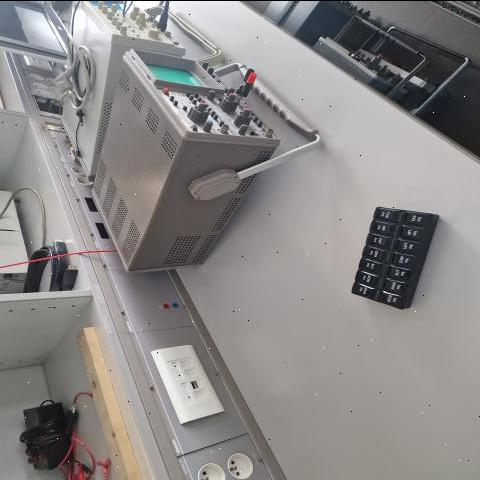PillBox: (330, 166, 458, 356)
